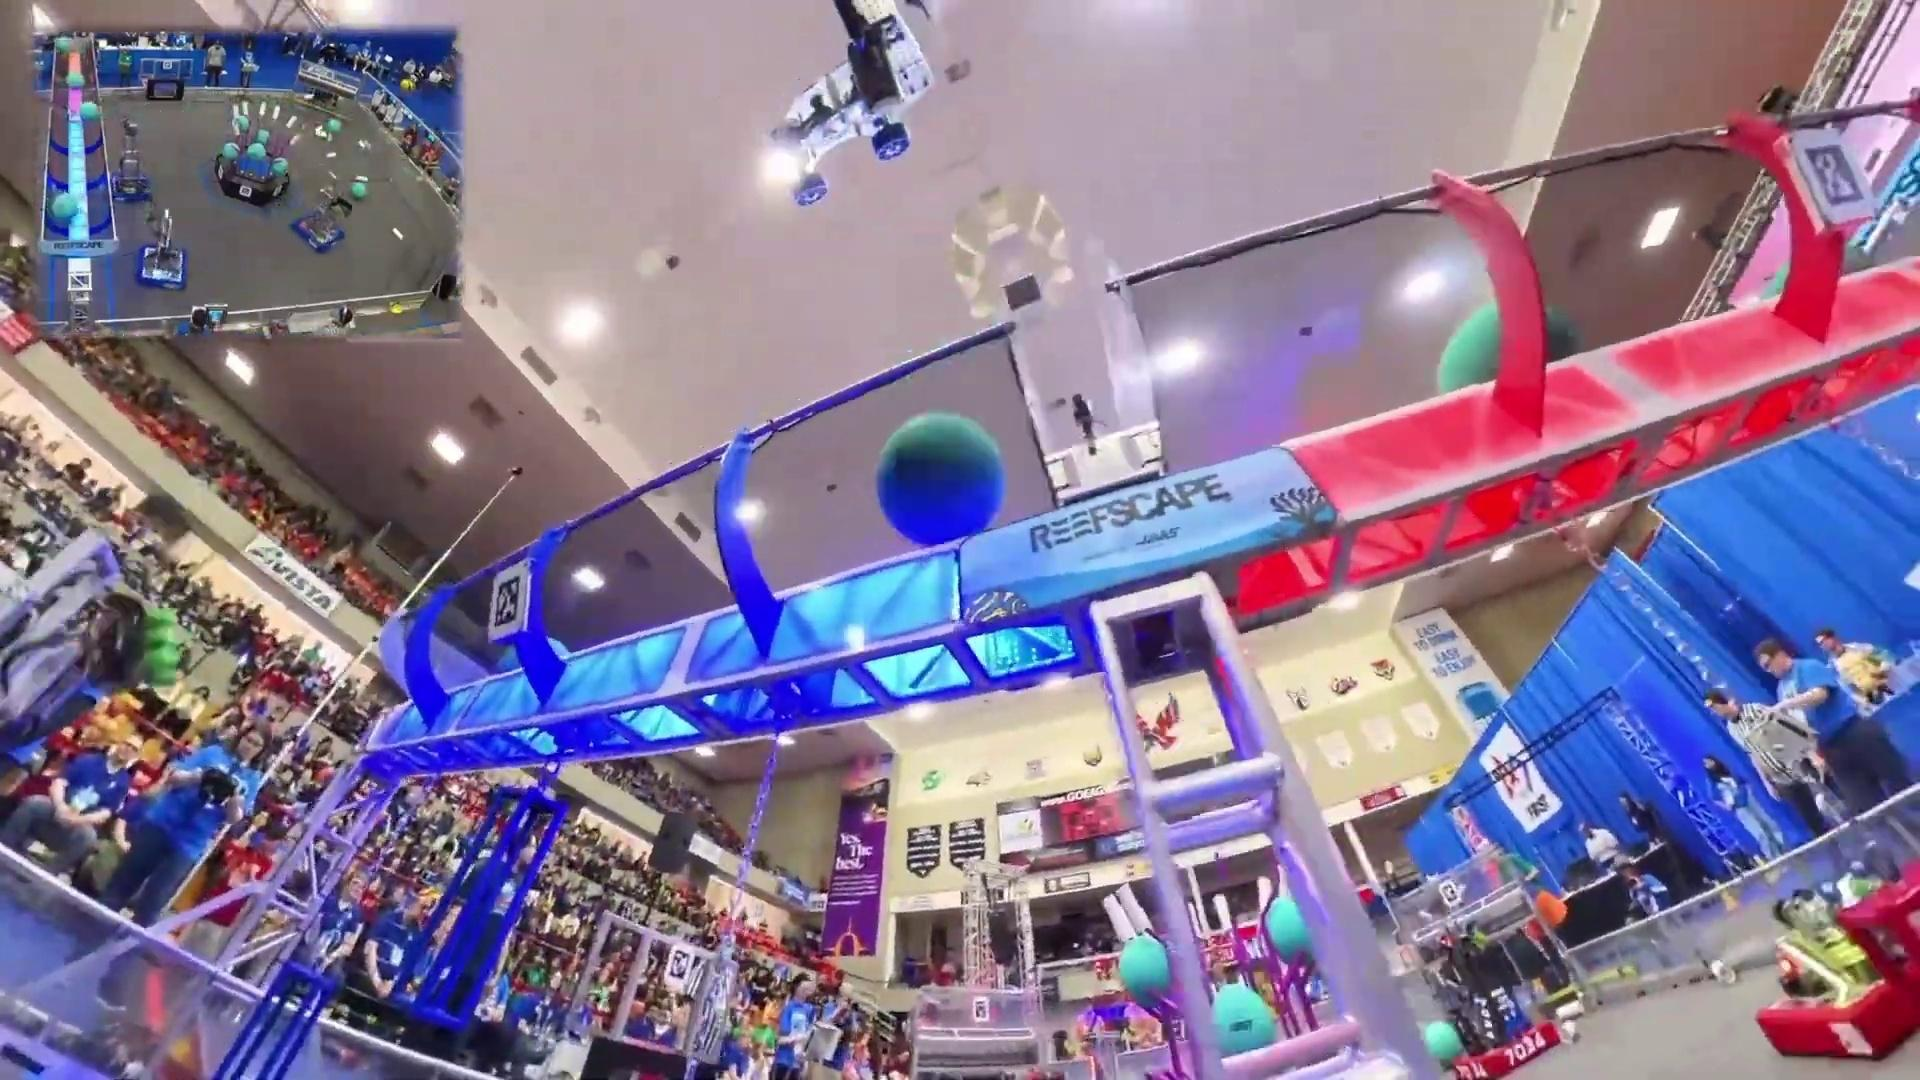robot: (1753, 864, 1920, 1063), (1437, 944, 1560, 1079), (136, 200, 187, 290), (290, 183, 349, 255), (107, 120, 153, 204)
